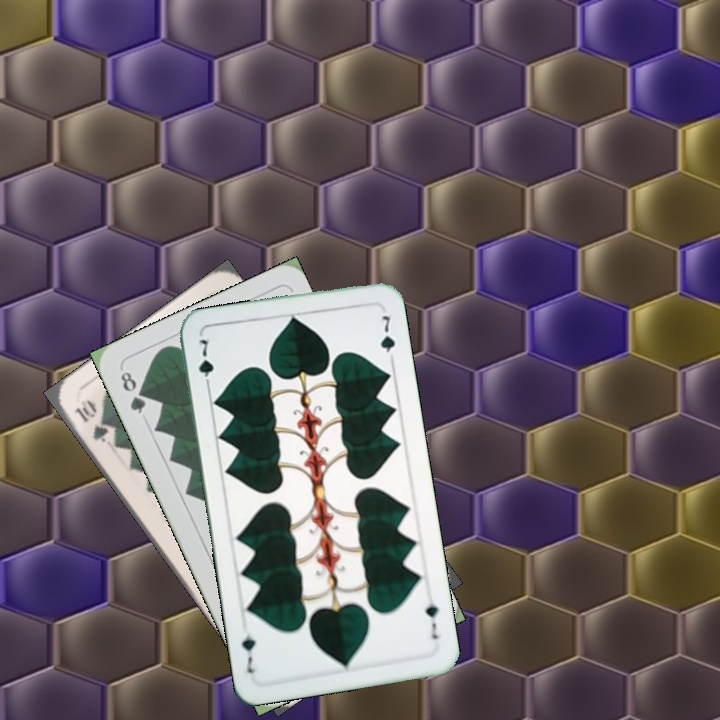G10: (69, 395, 111, 445)
G7: (194, 333, 217, 392), (421, 599, 441, 642)
G8: (116, 367, 149, 417)
